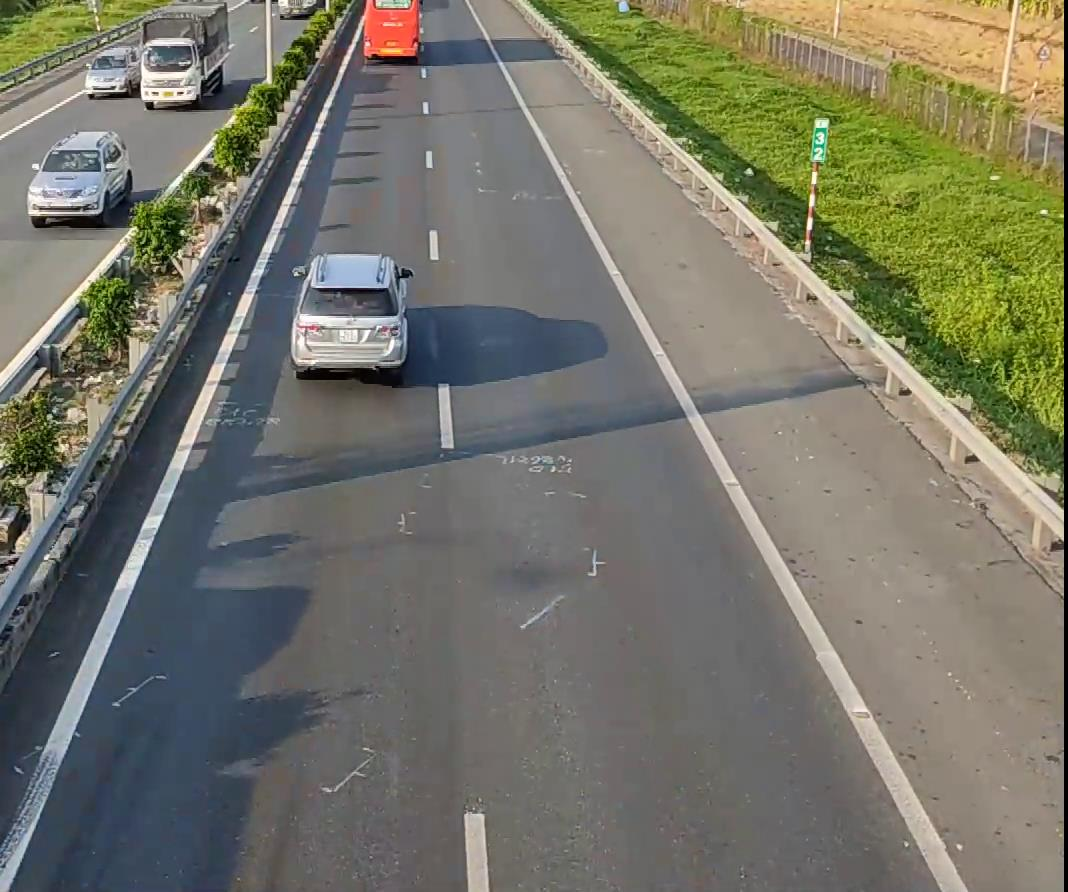car: (287, 251, 410, 379), (24, 128, 131, 225)
truck: (137, 0, 230, 108)
